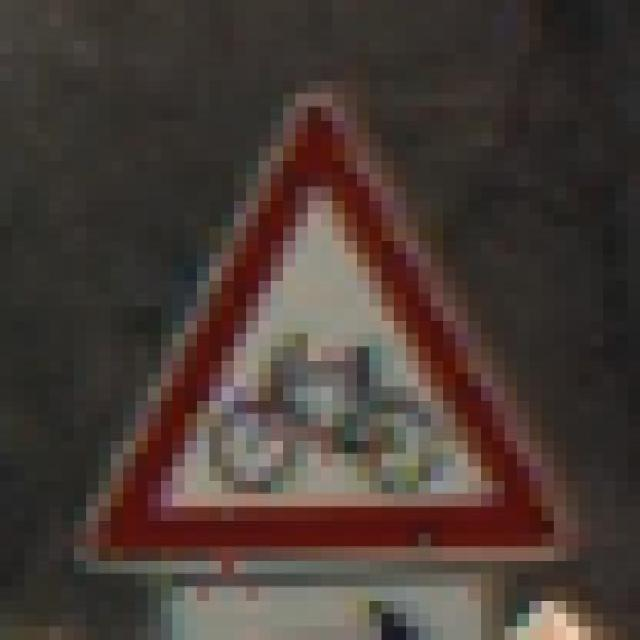CYCLE ROUTE AHEAD WARNING: (74, 79, 566, 587)
